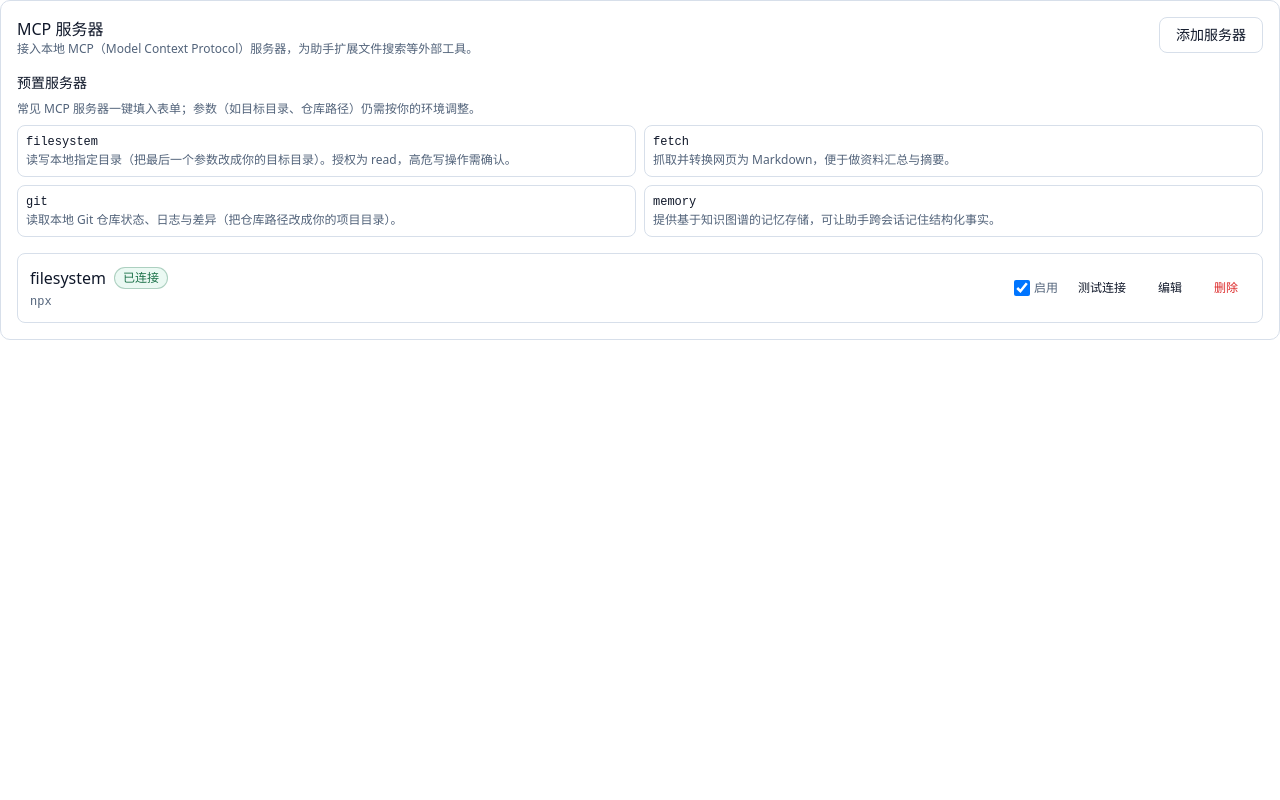
MCP 服务器面板（v0.6 M1） › 删除：确认框取消则不发起请求
This screenshot has width=1280, height=800.
Click the button "删除" at (1226, 288), box [1202,272,1250,304]
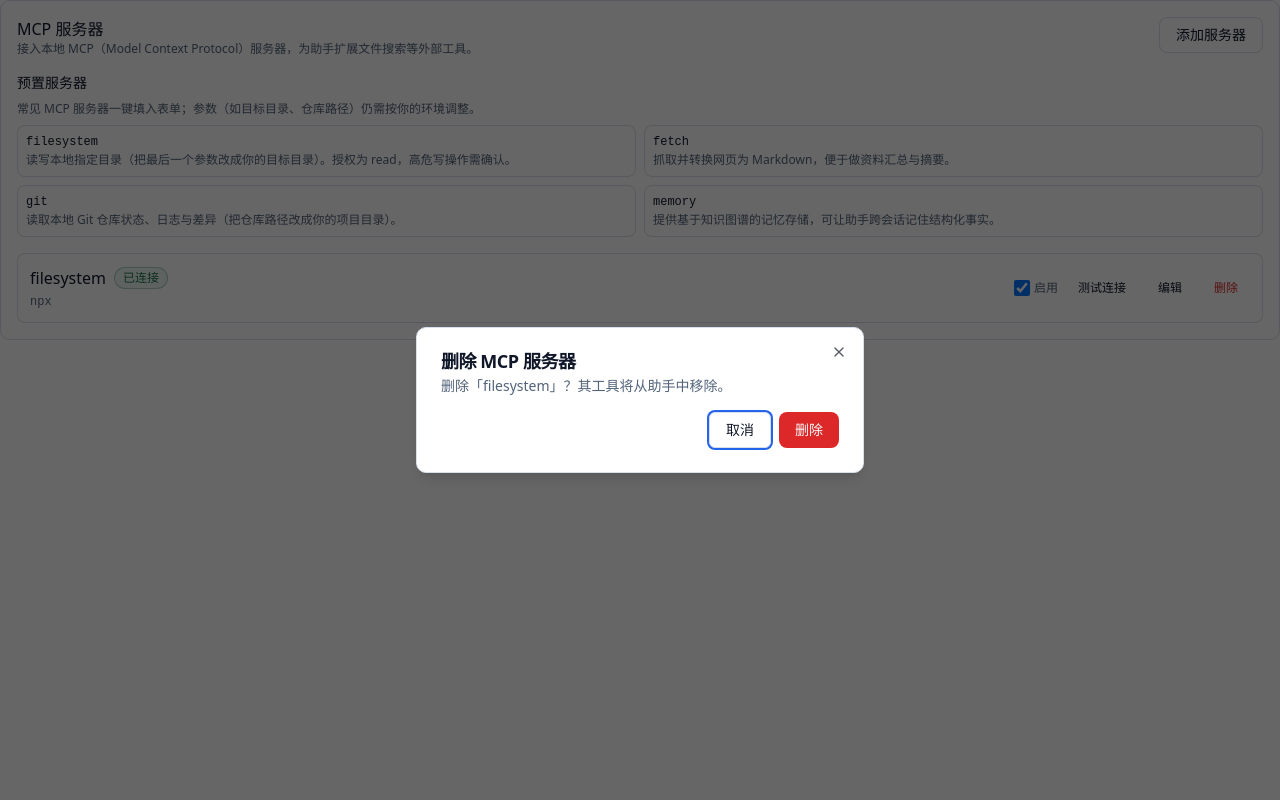
# v1.2：在应用内 ConfirmDialog 上点取消，不得发起 DELETE
Click the button "取消" at (740, 430), box [709,412,771,448]
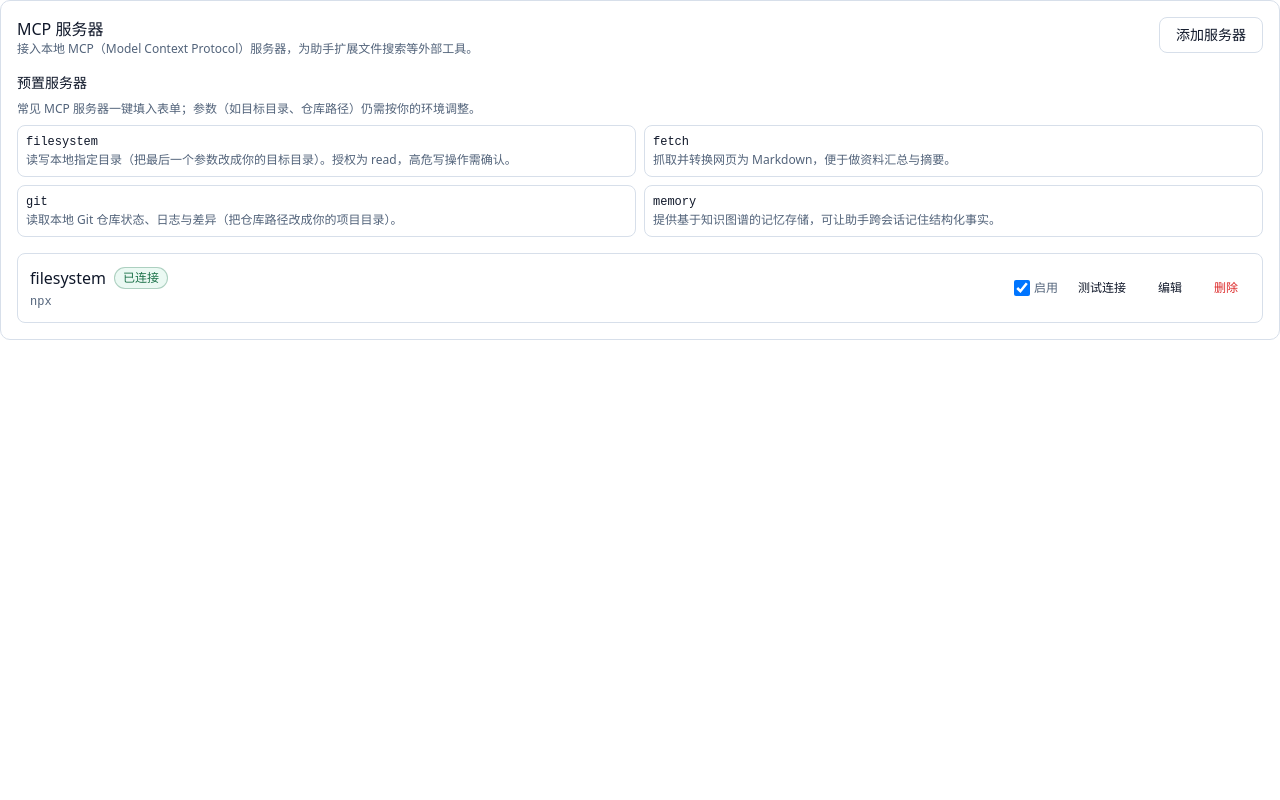
Result: the dialog is gone
